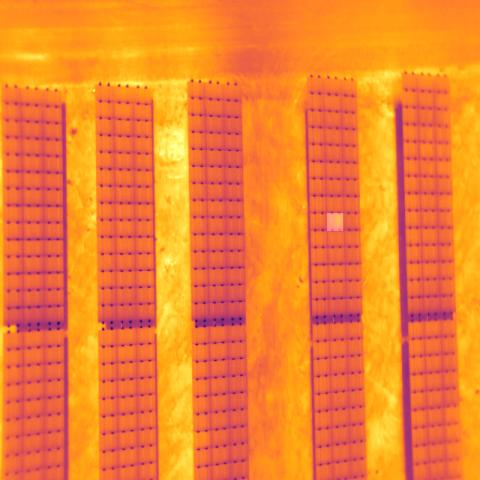fault: (327, 213, 343, 231)
